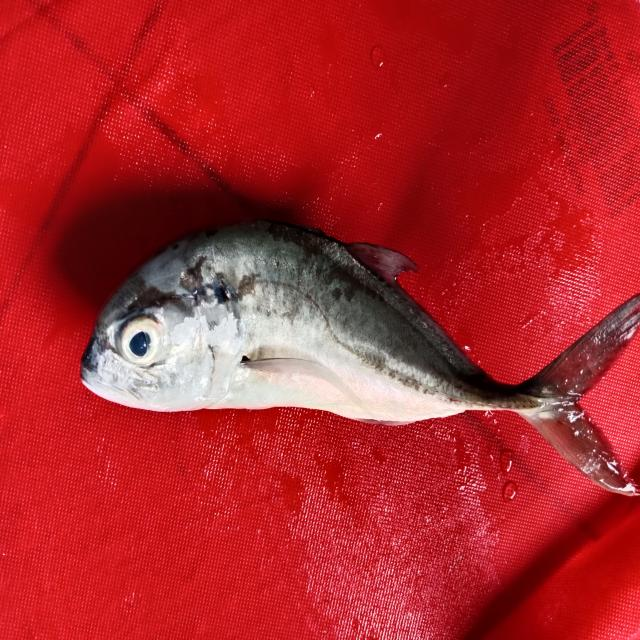ikan: (68, 183, 626, 516)
